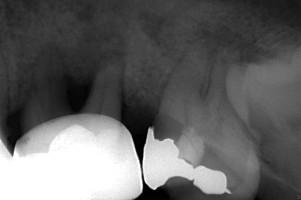Dental Caries: (56, 22, 126, 112)
Furcation Involvement: (194, 22, 274, 62)
